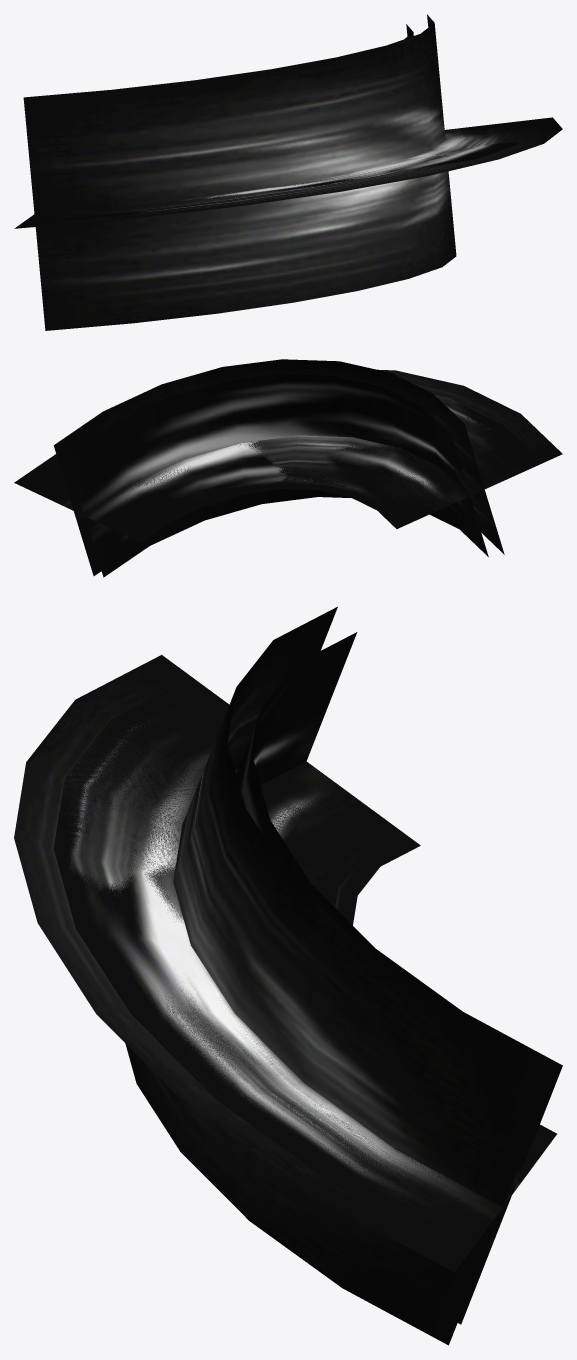
Rendered from Effect_1140bigskill_Sdaoguang.fbx.
The picture shows the model from 3 angles, top to bottom: view 1: azimuth 30°, elevation 25°; view 2: azimuth 150°, elevation 25°; view 3: azimuth 270°, elevation 25°; orthographic projection. The views are drawn at different scales.
Parts seen in each view (by area): view 1: daoguang1 (1), daoguang1; view 2: daoguang1, daoguang1 (1); view 3: daoguang1 (1), daoguang1.
Boxes of the visible parts, left/top/right/bottom form: daoguang1 (1): left=14, top=14, right=562, bottom=330; daoguang1: left=20, top=24, right=521, bottom=224; daoguang1: left=29, top=374, right=542, bottom=577; daoguang1 (1): left=14, top=359, right=562, bottom=575; daoguang1 (1): left=14, top=606, right=557, bottom=1345; daoguang1: left=53, top=632, right=562, bottom=1324.
Size of the model in its own units: 10.74 by 4.83 by 5.58.
Materials: 2 (2 with a texture image).
